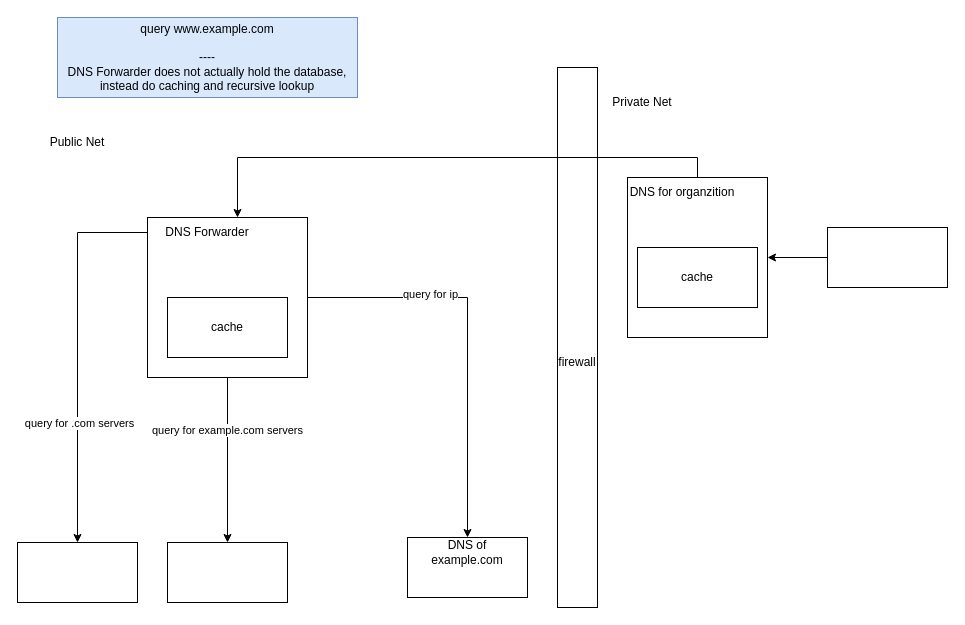
Image size: 965x625. Some labels were removed from this diagram. The centre of each missing label's shape, as x and y in pixels:
"DNS of .com" goes at (x=227, y=572).
"host" goes at (x=887, y=257).
"root (13 root servers)" goes at (x=77, y=572).
